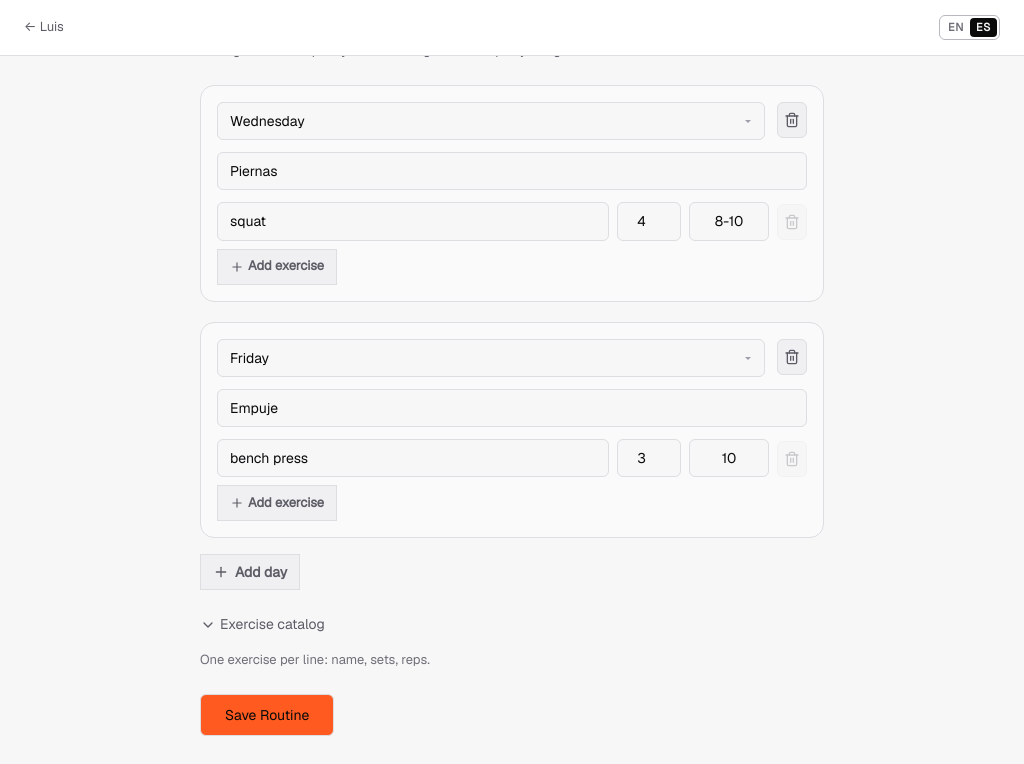
it: RoutineEditor › omits the notified suffix when the API says nobody was told (P2, PR review)
(page scrolled)
Click the button "Save Routine" at (267, 715), box [200,694,334,736]
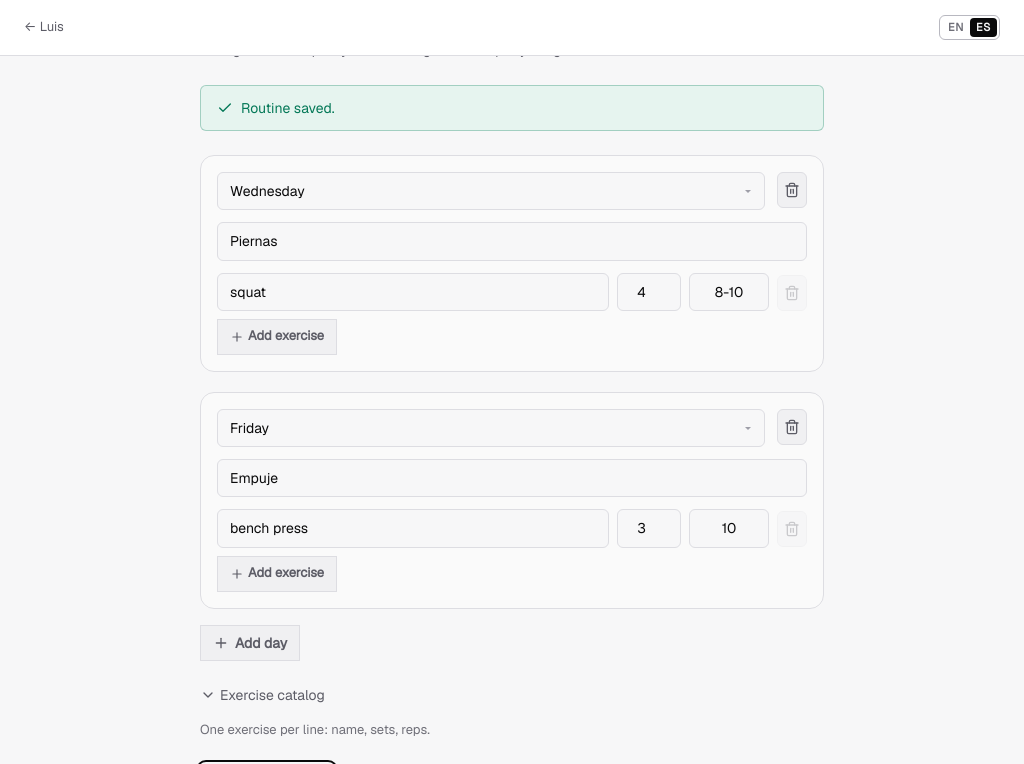
expect the text "Routine saved." is shown: met, box [241,98,335,118]
